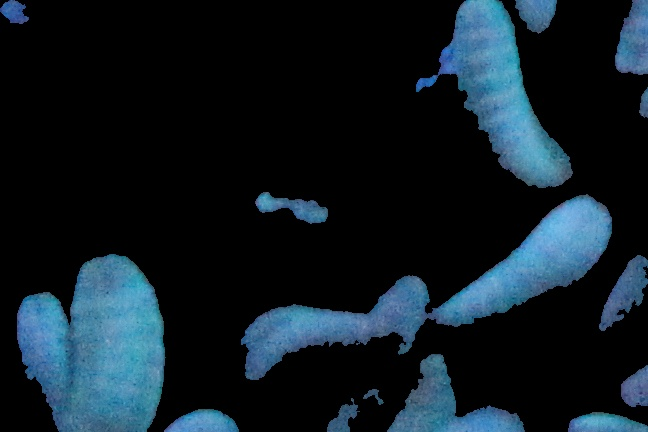larvae: (431, 195, 615, 326), (454, 1, 574, 186), (68, 254, 166, 432), (224, 284, 373, 379), (11, 283, 67, 432), (241, 298, 376, 349)
